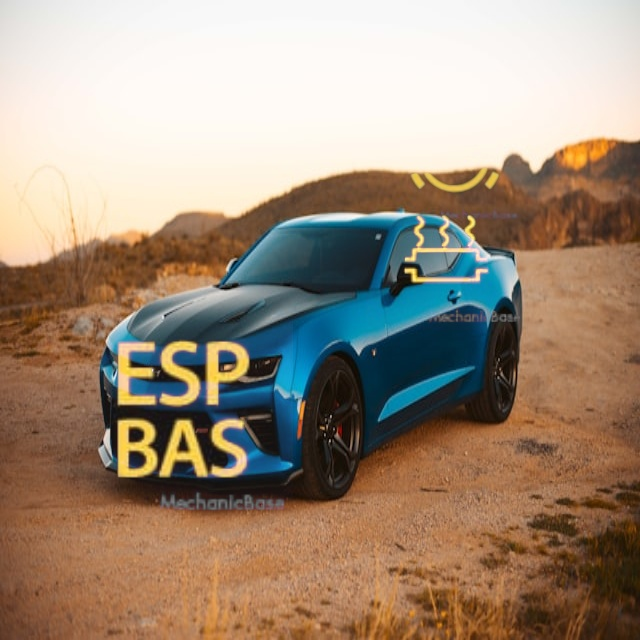symbol: (74, 302, 293, 521), (366, 169, 527, 330), (75, 35, 235, 195), (386, 89, 523, 226)
